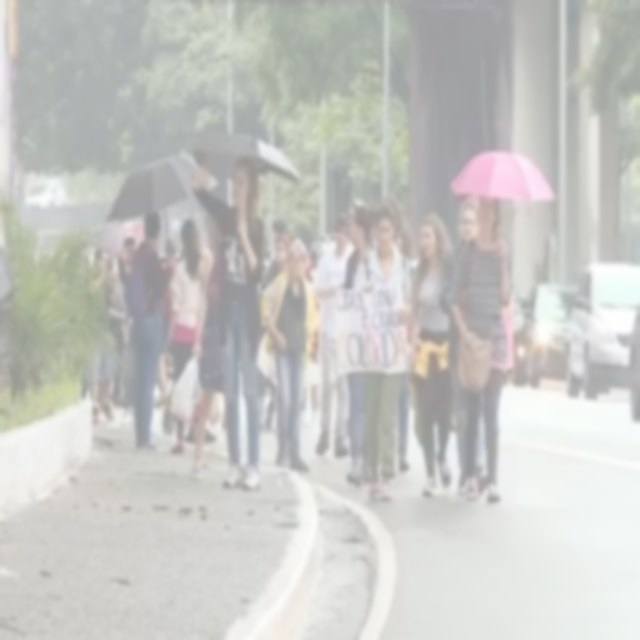pessoa: (188, 150, 268, 494), (446, 194, 512, 506), (351, 201, 412, 504), (439, 195, 488, 499), (407, 210, 457, 498), (261, 239, 319, 474), (124, 206, 177, 454), (158, 217, 206, 455), (314, 215, 355, 455), (344, 202, 376, 486), (393, 217, 415, 476), (88, 245, 116, 427), (105, 255, 126, 408), (185, 377, 220, 447), (91, 230, 136, 282), (150, 218, 181, 290), (300, 331, 322, 424), (304, 238, 332, 278), (272, 234, 292, 276), (152, 352, 167, 408), (388, 188, 400, 241), (271, 216, 288, 241), (345, 197, 365, 215), (80, 254, 86, 274), (79, 382, 86, 398)
